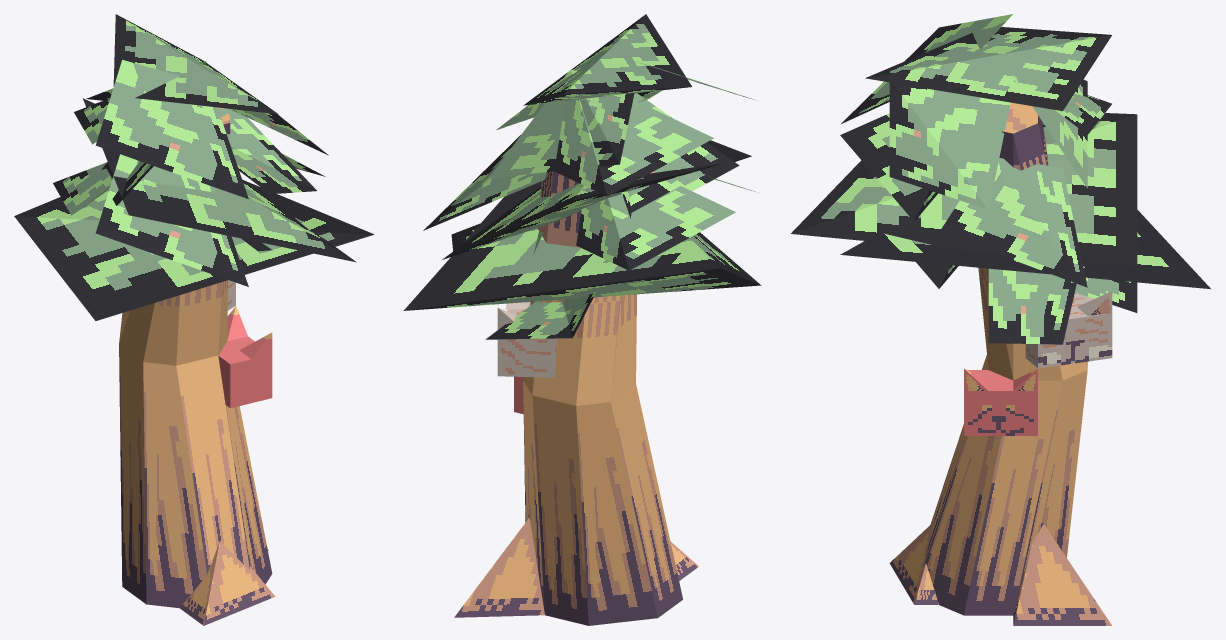
Rendered from ArbreàChat.gltf.
3 renders of one model, left to right at view 1: azimuth 30°, elevation 25°; view 2: azimuth 150°, elevation 25°; view 3: azimuth 270°, elevation 25°, orthographic. The views are drawn at different scales.
Bounding box in the file's own units: 3.5 × 6 × 4.25.
Materials: 1 (1 with a texture image).
